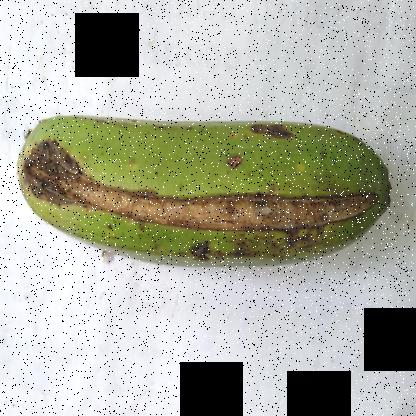rotten: (2, 70, 382, 295)
